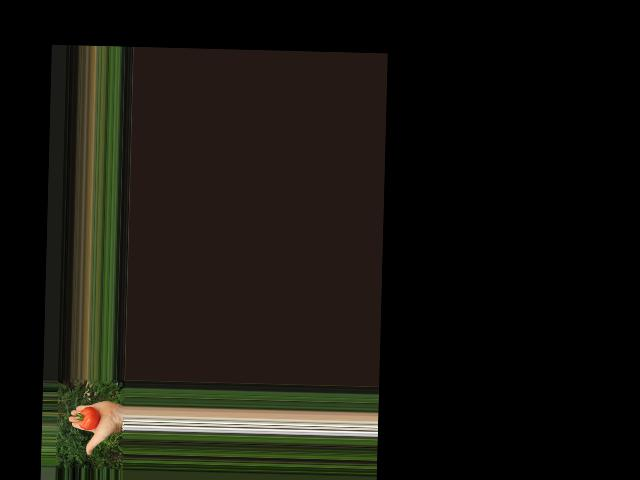tomato: (78, 405, 100, 430)
